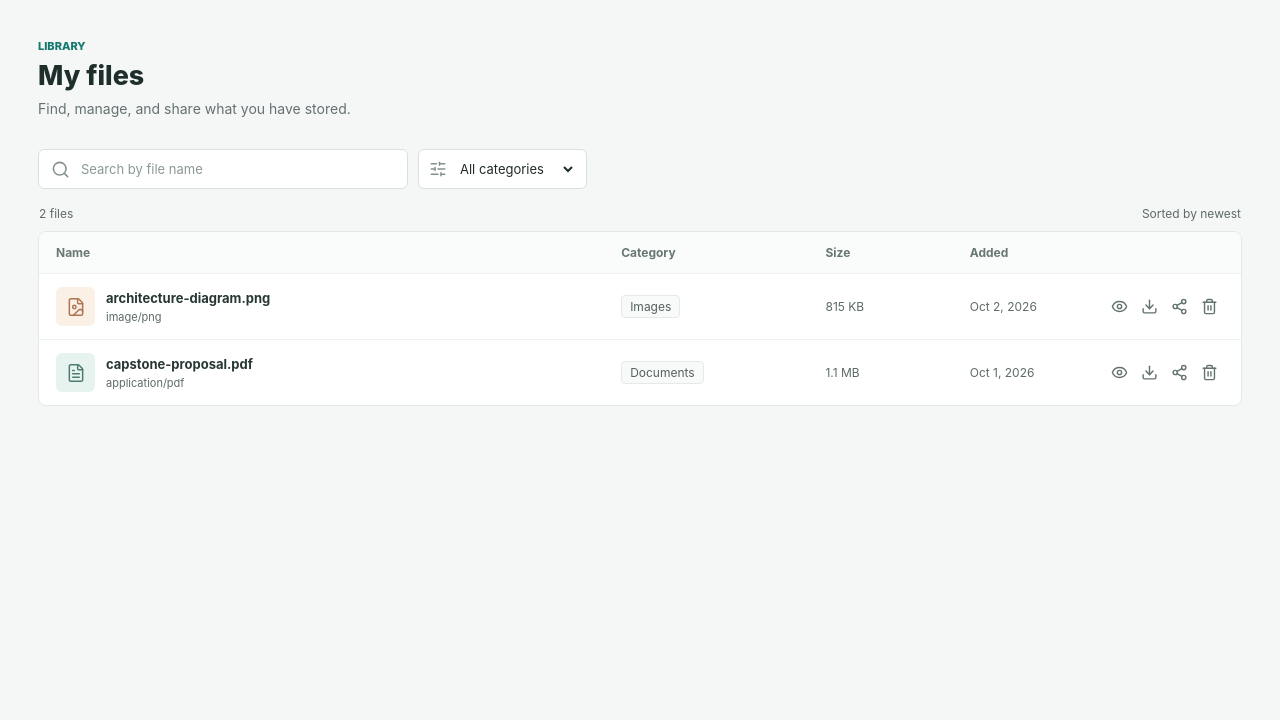
file actions › rejects attachment links that lack binary delivery
The width and height of the screenshot is (1280, 720).
Step 1. Click the button named "Download capstone-proposal.pdf" → (1150, 373), box [1135,358,1164,387]
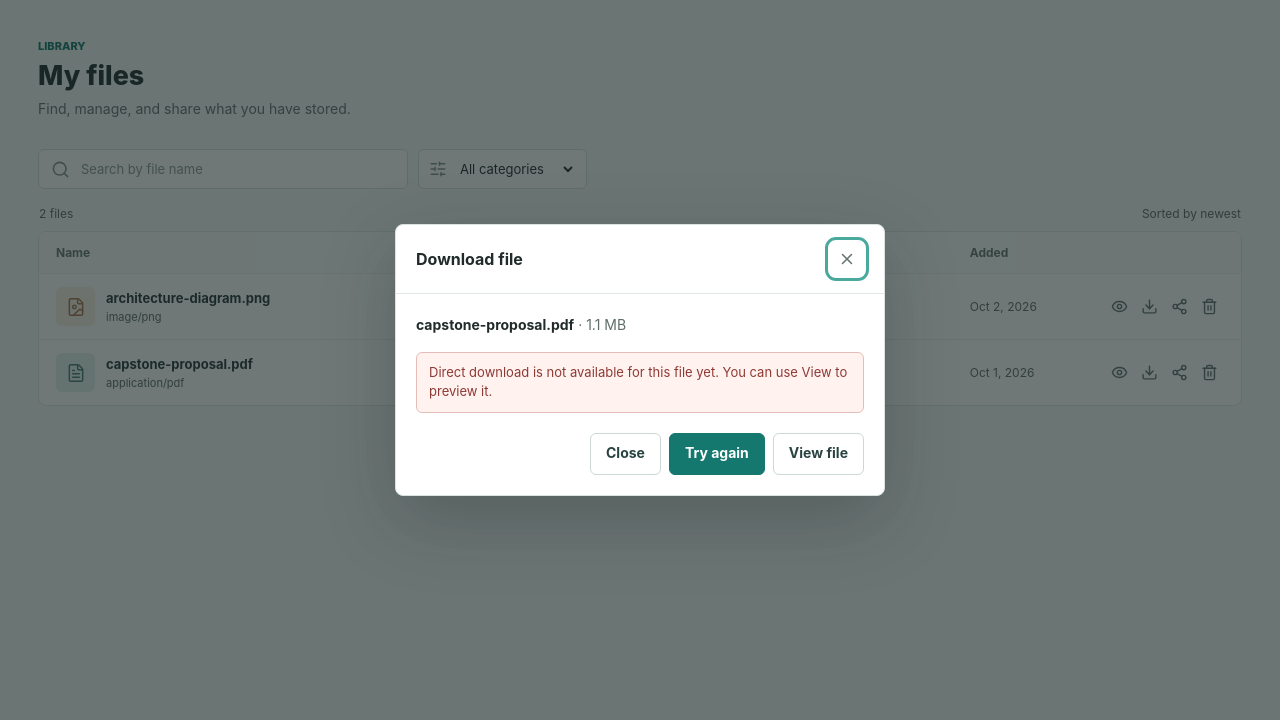
Now the message shows "Direct download is not available", box [429,364,847,399]
